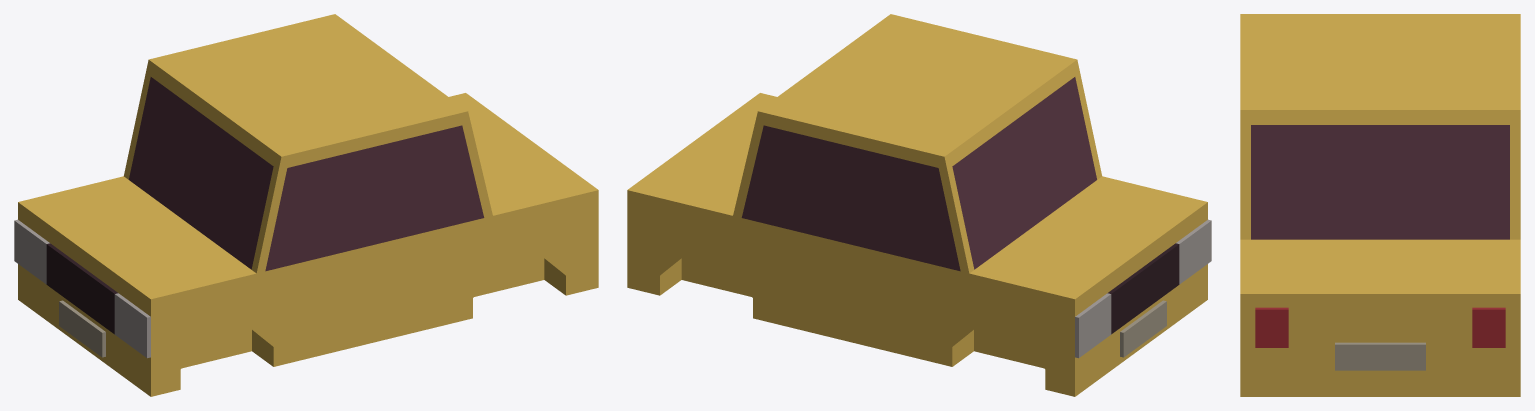
Rendered from Sedan_Yellow.fbx.
3 renders of one model, left to right at view 1: azimuth 30°, elevation 25°; view 2: azimuth 150°, elevation 25°; view 3: azimuth 270°, elevation 25°, orthographic. The views are drawn at different scales.
Visible parts, largest first — view 1: Sedan_Yellow, Sedan_Lights; view 2: Sedan_Yellow, Sedan_Lights; view 3: Sedan_Yellow, Sedan_Lights.
Part boxes in pixels (x1=…): Sedan_Yellow: x1=18, y1=14, x2=598, y2=396; Sedan_Lights: x1=14, y1=219, x2=150, y2=358; Sedan_Yellow: x1=627, y1=14, x2=1207, y2=396; Sedan_Lights: x1=1075, y1=219, x2=1211, y2=358; Sedan_Yellow: x1=1240, y1=14, x2=1520, y2=396; Sedan_Lights: x1=1255, y1=307, x2=1505, y2=347.
Bounding box in the file's own units: 3.66 × 1.6 × 1.85.
